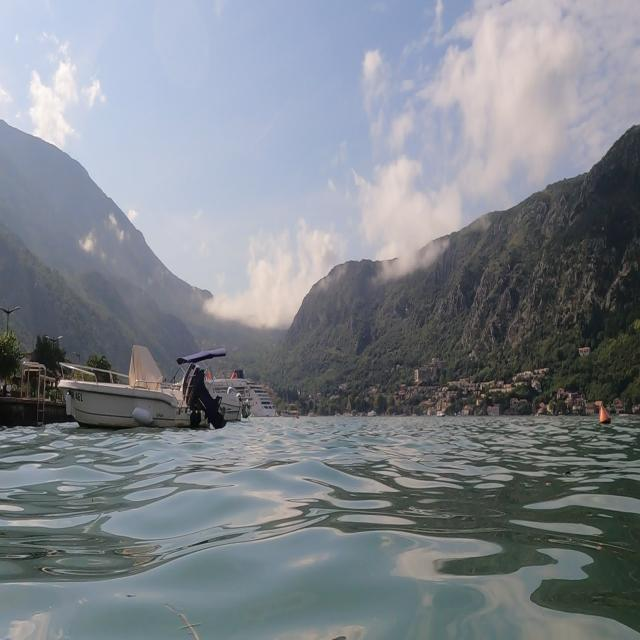boat: (55, 340, 238, 433), (196, 357, 290, 428)
buoy: (594, 399, 613, 431)
